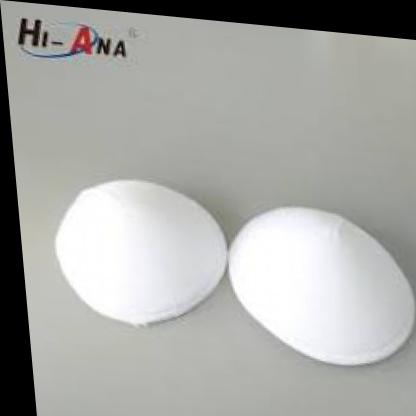Miscellaneous: (13, 128, 416, 416)
